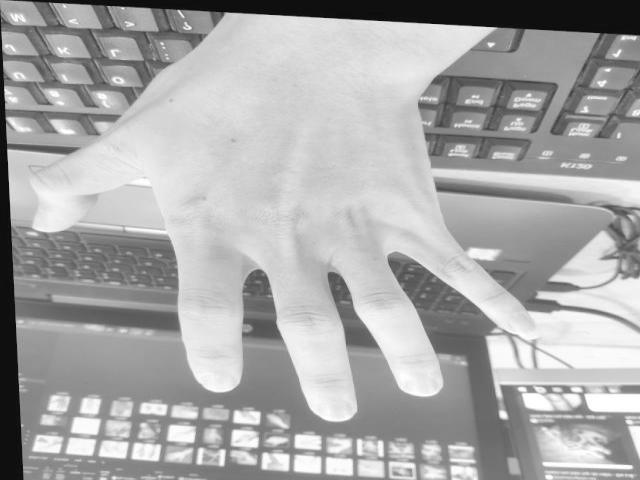not-gloved: (30, 22, 537, 422)
